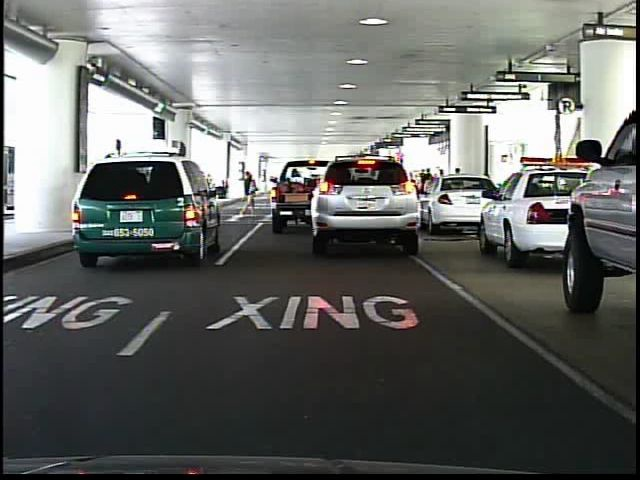person: (238, 168, 262, 224)
